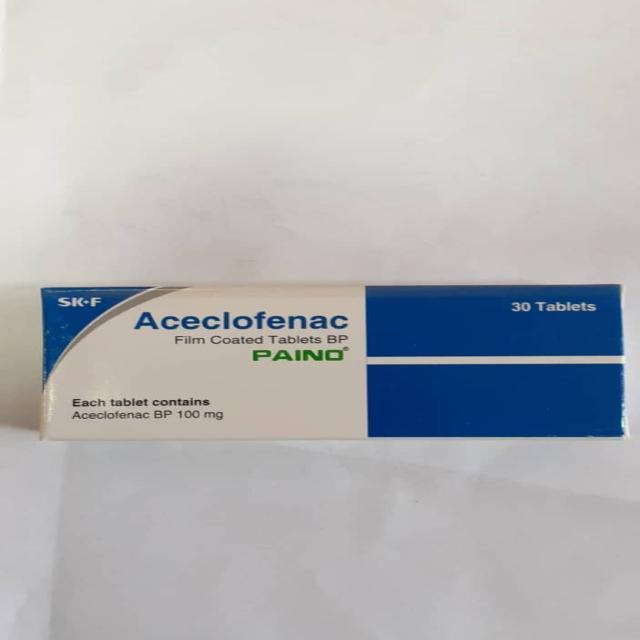drug-name: (248, 348, 344, 362)
